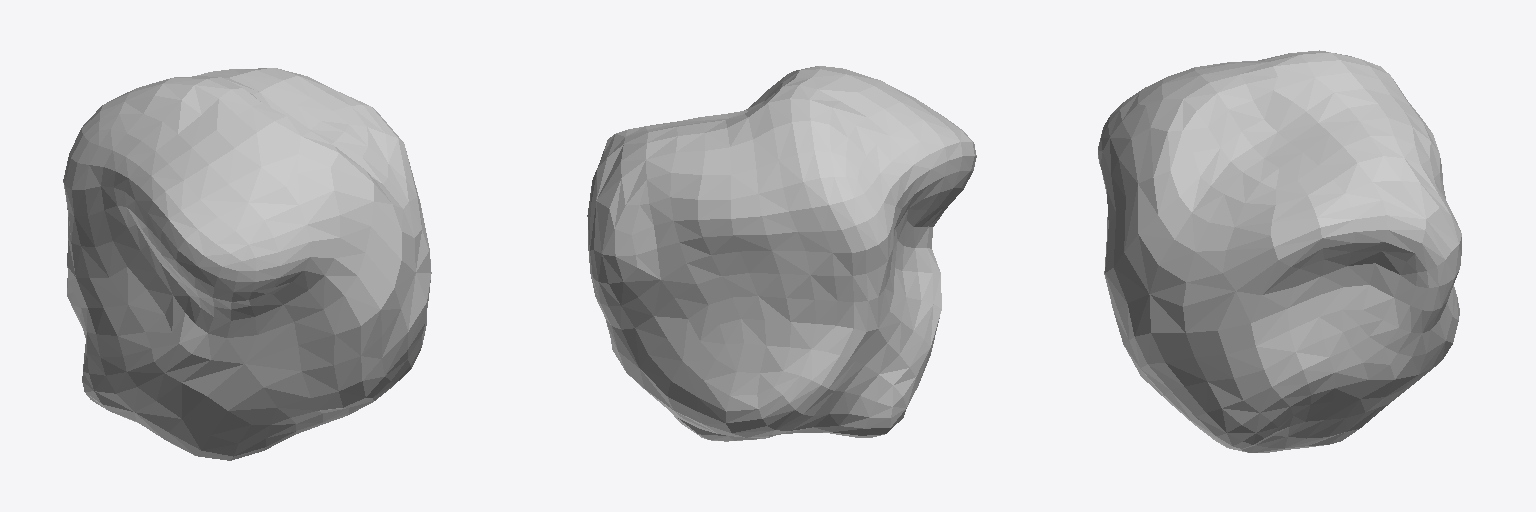
File: Rock_3.obj
3 renders of one model, left to right at view 1: azimuth 30°, elevation 25°; view 2: azimuth 150°, elevation 25°; view 3: azimuth 270°, elevation 25°, orthographic.
Parts seen in each view (by area): view 1: ZBrush_defualt_group; view 2: ZBrush_defualt_group; view 3: ZBrush_defualt_group.
Boxes of the visible parts, x1,y1,x2,y2 form: ZBrush_defualt_group: [63, 68, 431, 460]; ZBrush_defualt_group: [587, 66, 976, 441]; ZBrush_defualt_group: [1098, 50, 1461, 452].
Bounding box in the file's own units: 5.53 × 6.11 × 5.73.